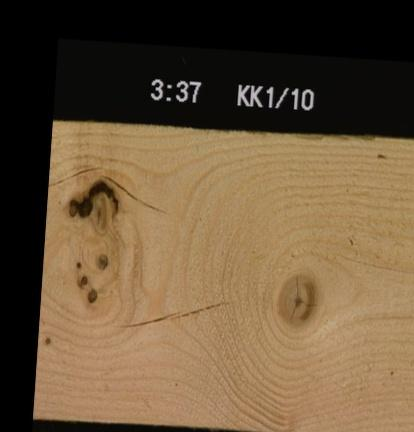dry_knot: (77, 272, 88, 286)
small_knot: (73, 258, 82, 268), (43, 334, 51, 344)
sound_knot: (275, 272, 317, 328), (96, 250, 107, 269), (86, 286, 98, 302)
split: (117, 294, 230, 330), (100, 174, 171, 211), (48, 162, 102, 188)
